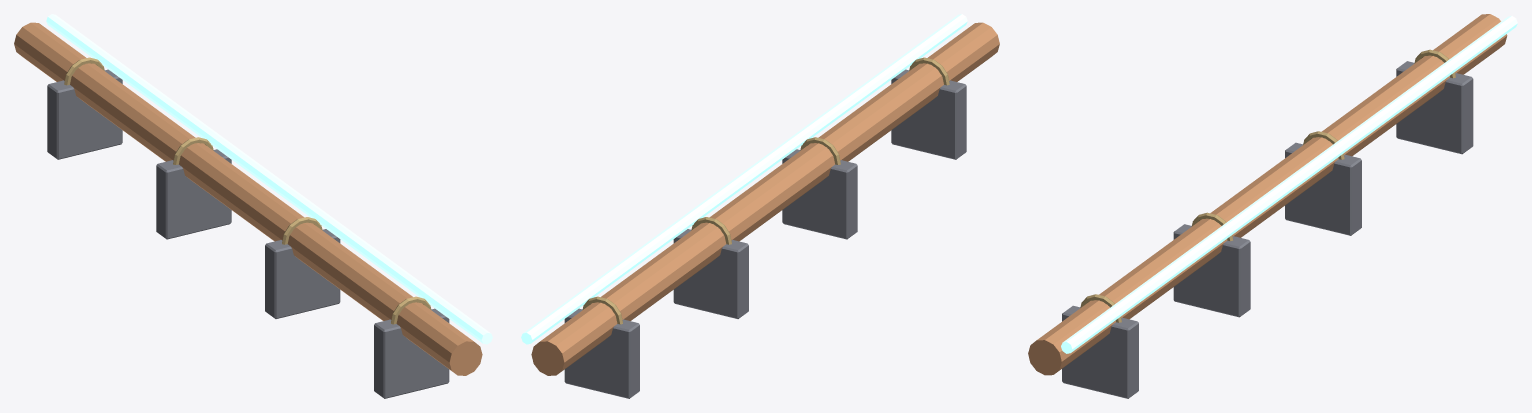
Rendered from gearforge_industrial_pipe_straight.glb.
The picture shows the model from 3 angles, left to right: view 1: azimuth 30°, elevation 25°; view 2: azimuth 150°, elevation 25°; view 3: azimuth 330°, elevation 25°; orthographic projection. The views are drawn at different scales.
Visible parts, largest first — view 1: gearforge_industrial_pipe_straight_lod0; view 2: gearforge_industrial_pipe_straight_lod0; view 3: gearforge_industrial_pipe_straight_lod0.
Part boxes in pixels (<box>): gearforge_industrial_pipe_straight_lod0: <box>14,14,492,398</box>; gearforge_industrial_pipe_straight_lod0: <box>521,14,999,398</box>; gearforge_industrial_pipe_straight_lod0: <box>1028,14,1517,398</box>.
Size of the model in its own units: 1.4 by 1.83 by 16.
